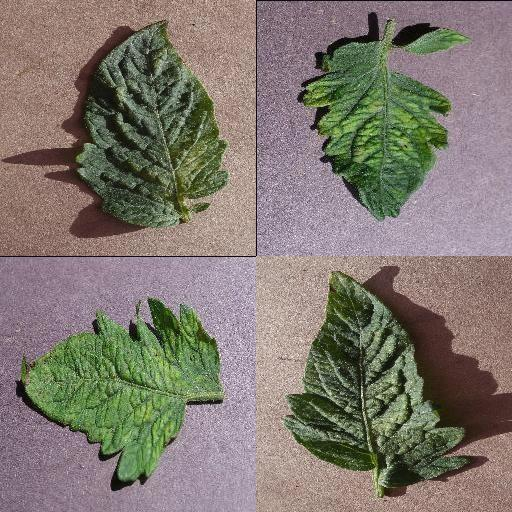Mosaic Virus: (18, 297, 222, 481), (303, 39, 455, 221)
Spider Mites: (284, 271, 470, 489), (75, 20, 229, 228)
